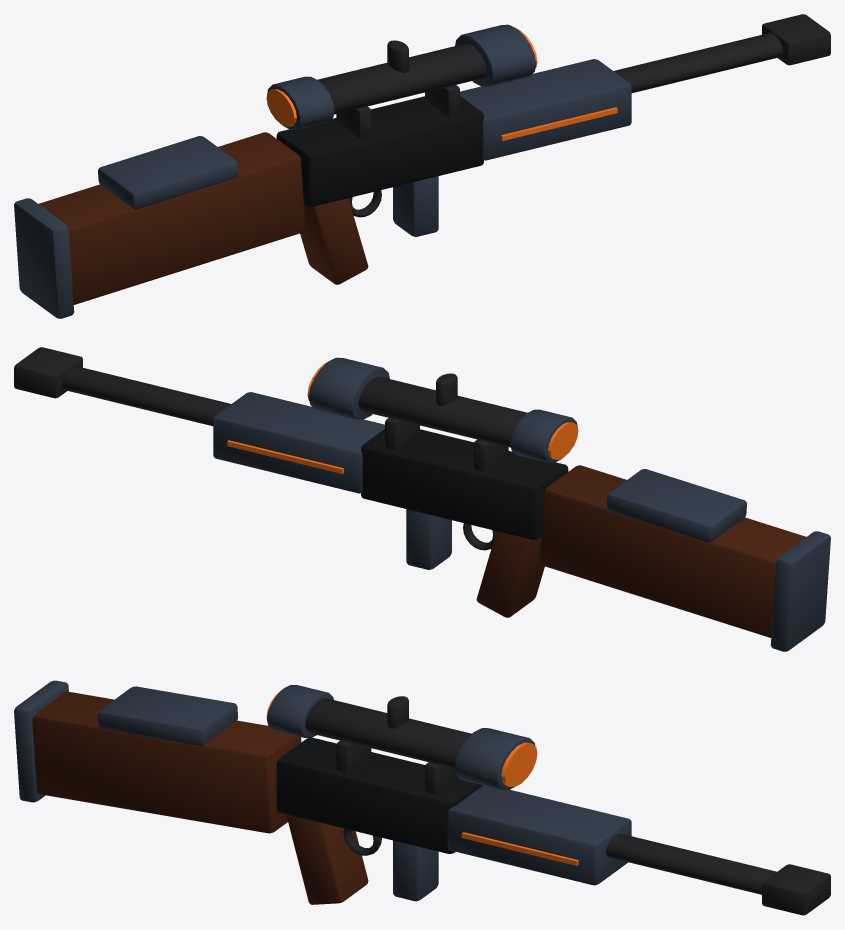
File: SGP_Sniper_Classic.obj
The picture shows the model from 3 angles, top to bottom: view 1: azimuth 30°, elevation 25°; view 2: azimuth 150°, elevation 25°; view 3: azimuth 330°, elevation 25°; orthographic projection.
Parts seen in each view (by area): view 1: SGP_Sniper_Classic; view 2: SGP_Sniper_Classic; view 3: SGP_Sniper_Classic.
Part boxes in pixels (x1,y1,x2,y2): SGP_Sniper_Classic: (14,14,830,318); SGP_Sniper_Classic: (14,347,830,651); SGP_Sniper_Classic: (14,680,830,915).
Bounding box in the file's own units: 0.8882 × 0.2295 × 0.08.
